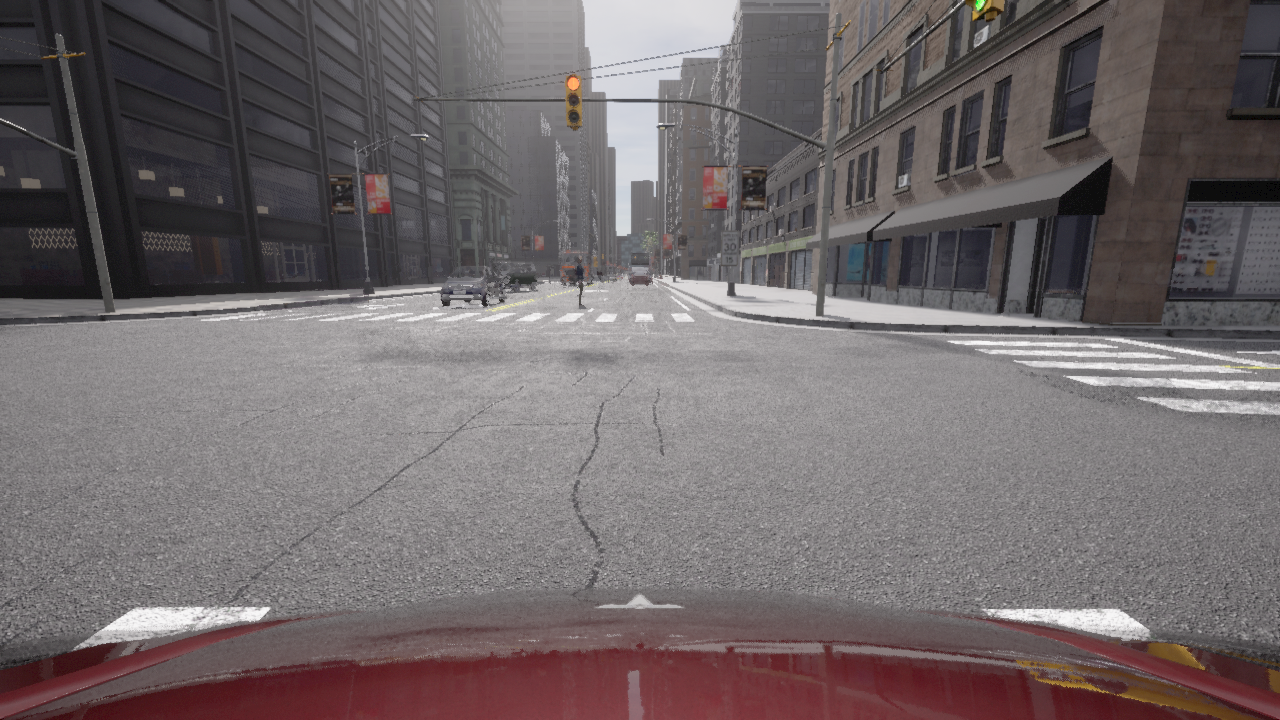cyclist: (0, 588, 1279, 719), (440, 264, 505, 306), (491, 261, 537, 291), (558, 251, 594, 284), (626, 250, 651, 281), (631, 271, 648, 283), (616, 272, 623, 280), (612, 274, 616, 282), (598, 278, 600, 287)
pedestrian: (576, 256, 584, 305)
